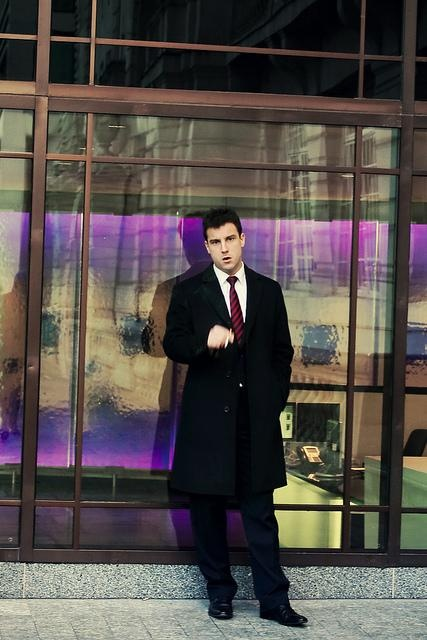person: (166, 204, 329, 626)
